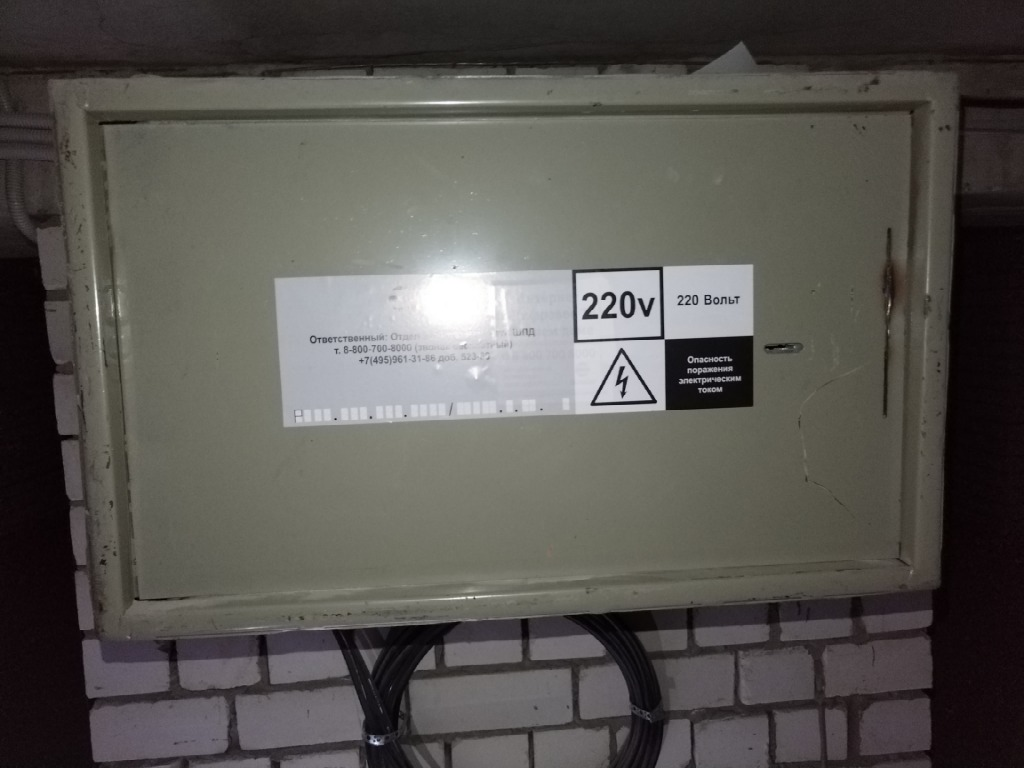e2-6u: (39, 61, 968, 652)
